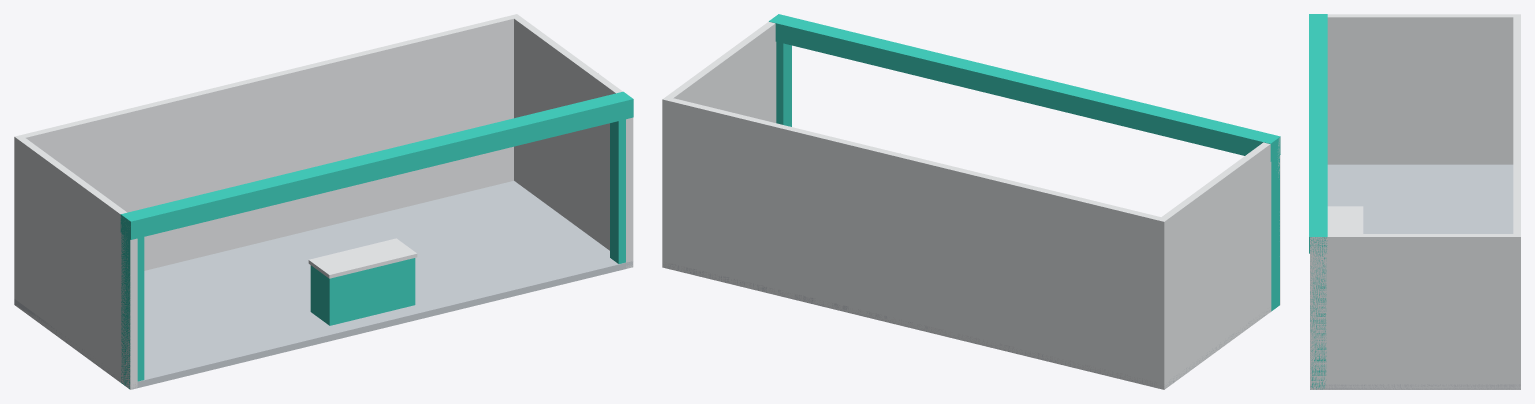
3 views of the same model, side by side, from view 1: azimuth 30°, elevation 25°; view 2: azimuth 150°, elevation 25°; view 3: azimuth 270°, elevation 25° (orthographic). The views are drawn at different scales.
Visible parts, largest first — view 1: Exhibition Booth Concept; view 2: Exhibition Booth Concept; view 3: Exhibition Booth Concept.
Part boxes in pixels (<box>): Exhibition Booth Concept: <box>14,14,633,389</box>; Exhibition Booth Concept: <box>662,14,1280,389</box>; Exhibition Booth Concept: <box>1309,14,1520,389</box>.
Size of the model in its own units: 10 by 3.2 by 4.02.
